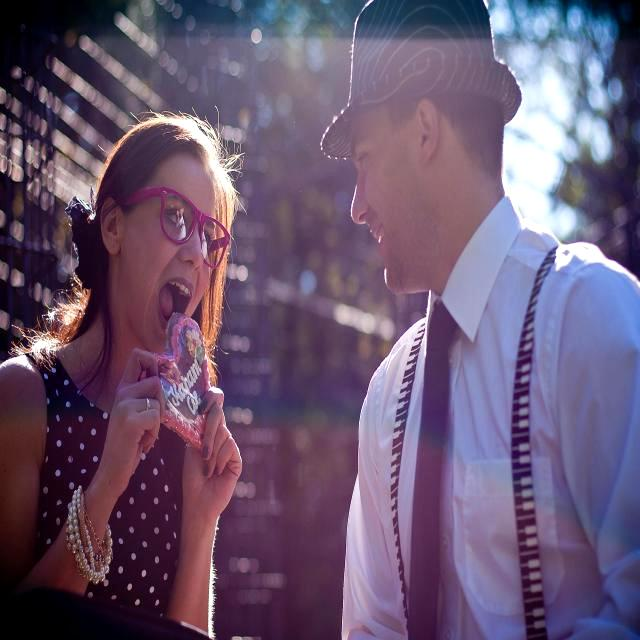no_hard_hat: (321, 0, 521, 163)
no_head_wear: (66, 113, 242, 334)
person: (343, 54, 638, 635), (0, 136, 243, 639)
